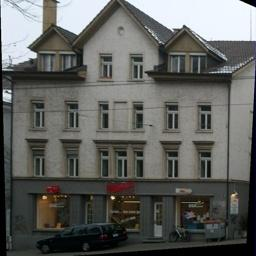building: (11, 0, 229, 235)
